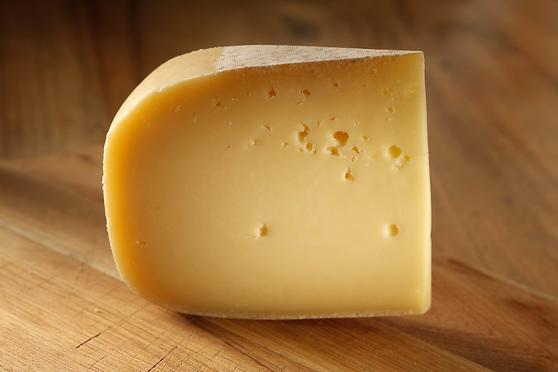cheese: (102, 43, 435, 315)
